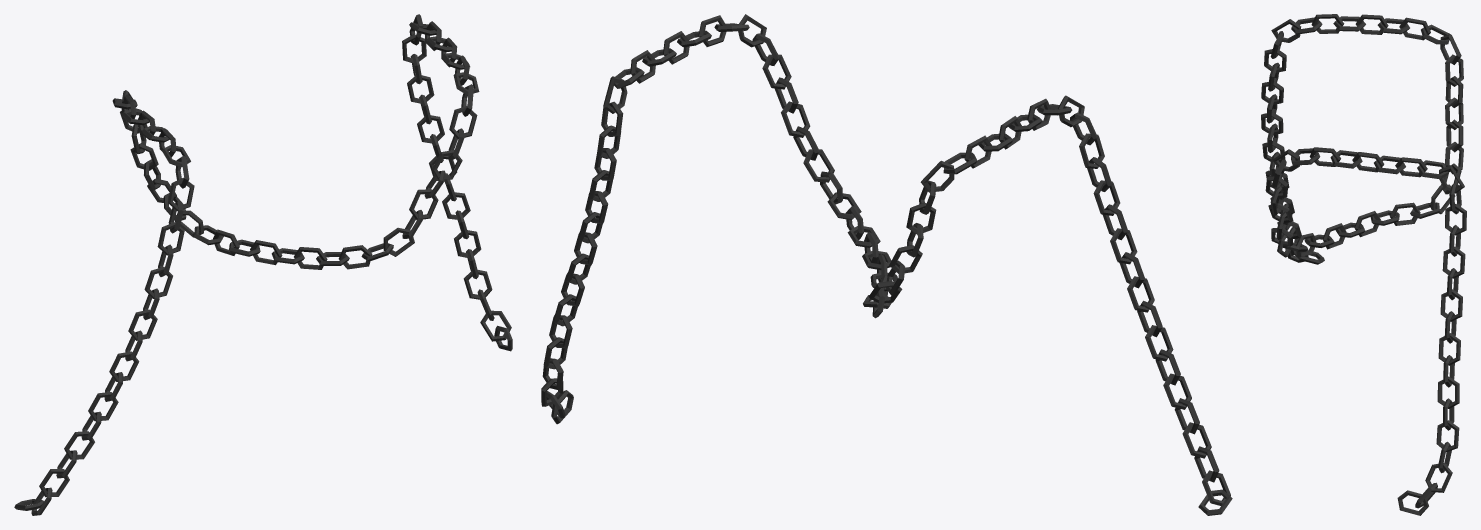
Rendered from Chain_03.fbx.
The picture shows the model from 3 angles, left to right: view 1: azimuth 30°, elevation 25°; view 2: azimuth 150°, elevation 25°; view 3: azimuth 270°, elevation 25°; orthographic projection. The views are drawn at different scales.
Parts seen in each view (by area): view 1: Chain_03_LOD0; view 2: Chain_03_LOD0; view 3: Chain_03_LOD0.
Part boxes in pixels (x1,y1,x2,y2): Chain_03_LOD0: (14, 14, 512, 515); Chain_03_LOD0: (541, 14, 1232, 515); Chain_03_LOD0: (1261, 14, 1466, 515).
Size of what is drawn, in the model's own units: 526 by 317 by 180.
